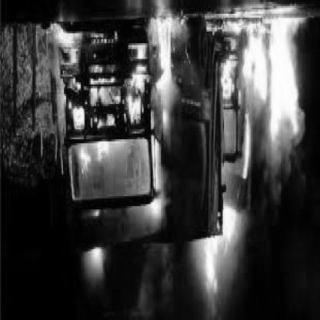Fire: (16, 15, 308, 313)
